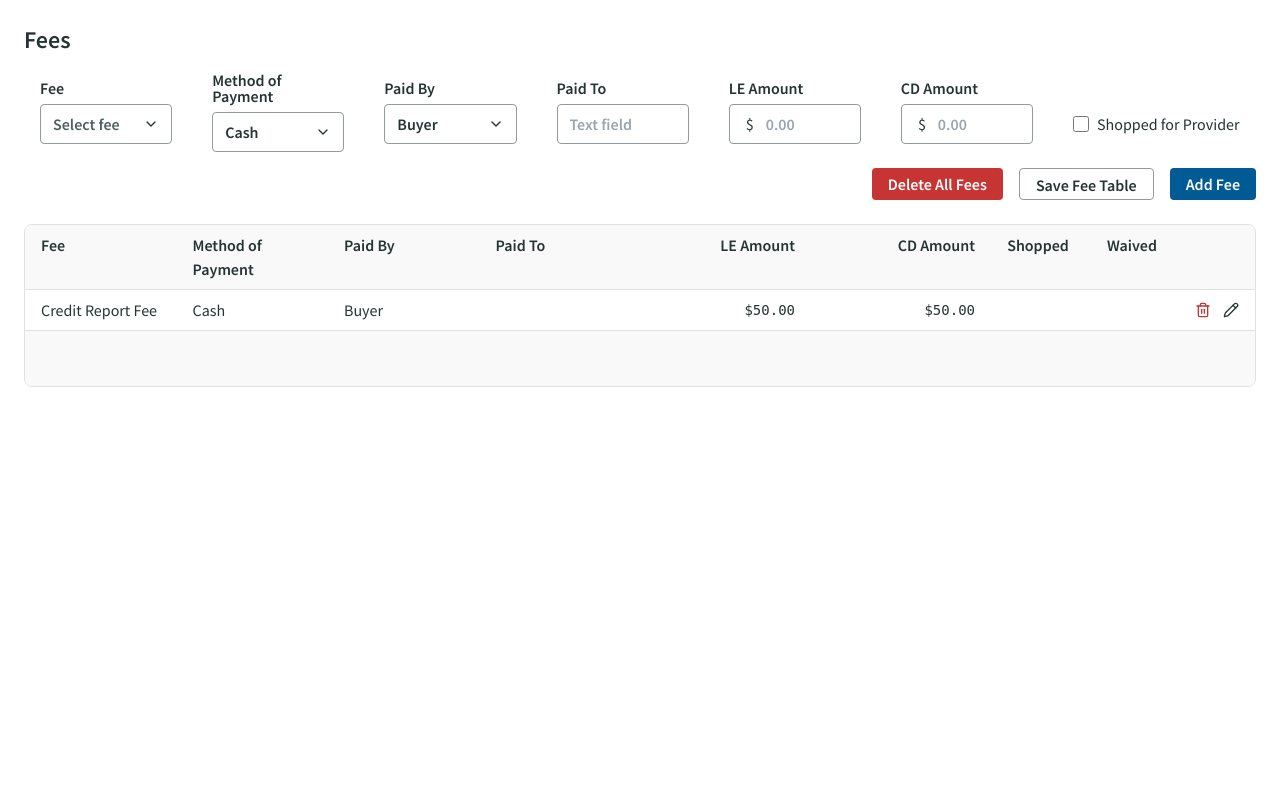
Test: FeesContent › saves waived status, shows its checkmark, and supports unwaiving
The image size is (1280, 800).
Expected: the column heading "Waived" is shown, x1=1107 y1=235 x2=1157 y2=255
Click the button with test id "button-edit-fee-waiver".
click(1231, 310)  # box x1=1223 y1=302 x2=1239 y2=318
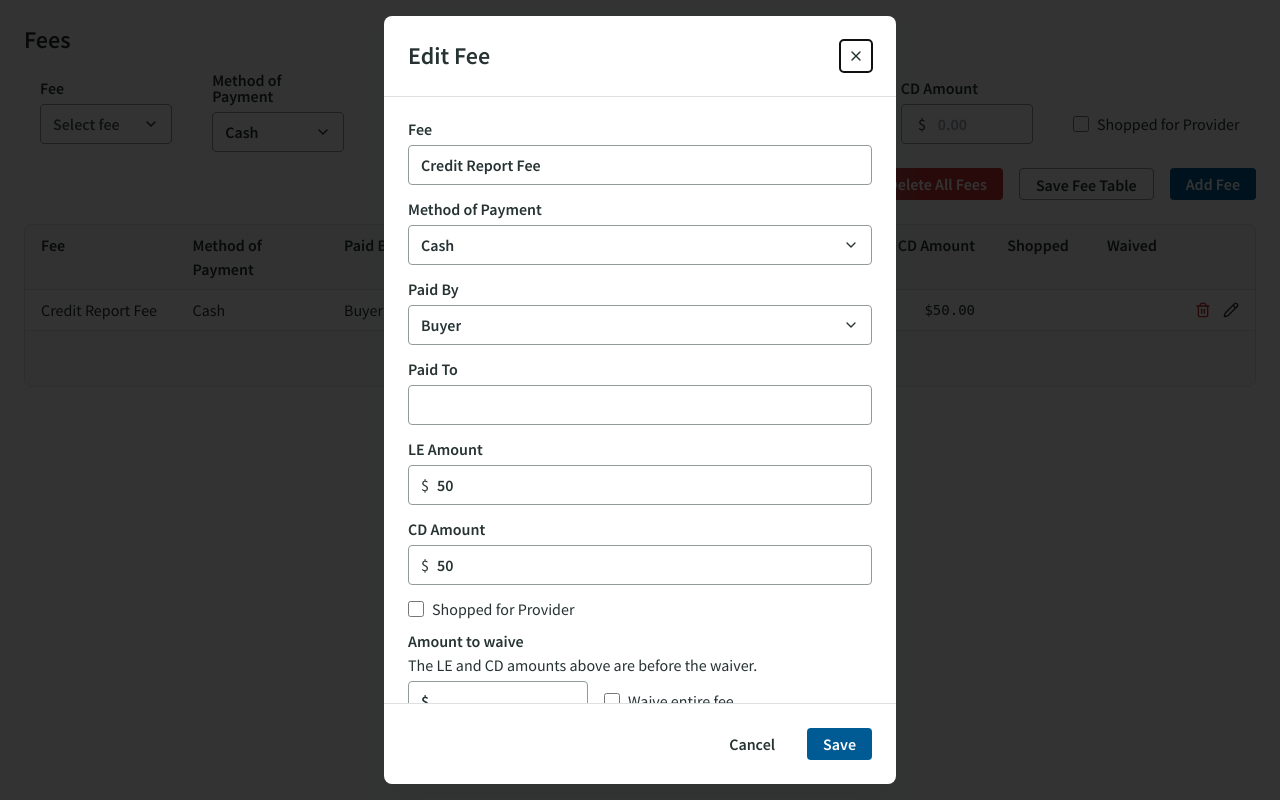
Click the checkbox labelled "Waive entire fee".
click(612, 701)  # box x1=604 y1=693 x2=620 y2=709
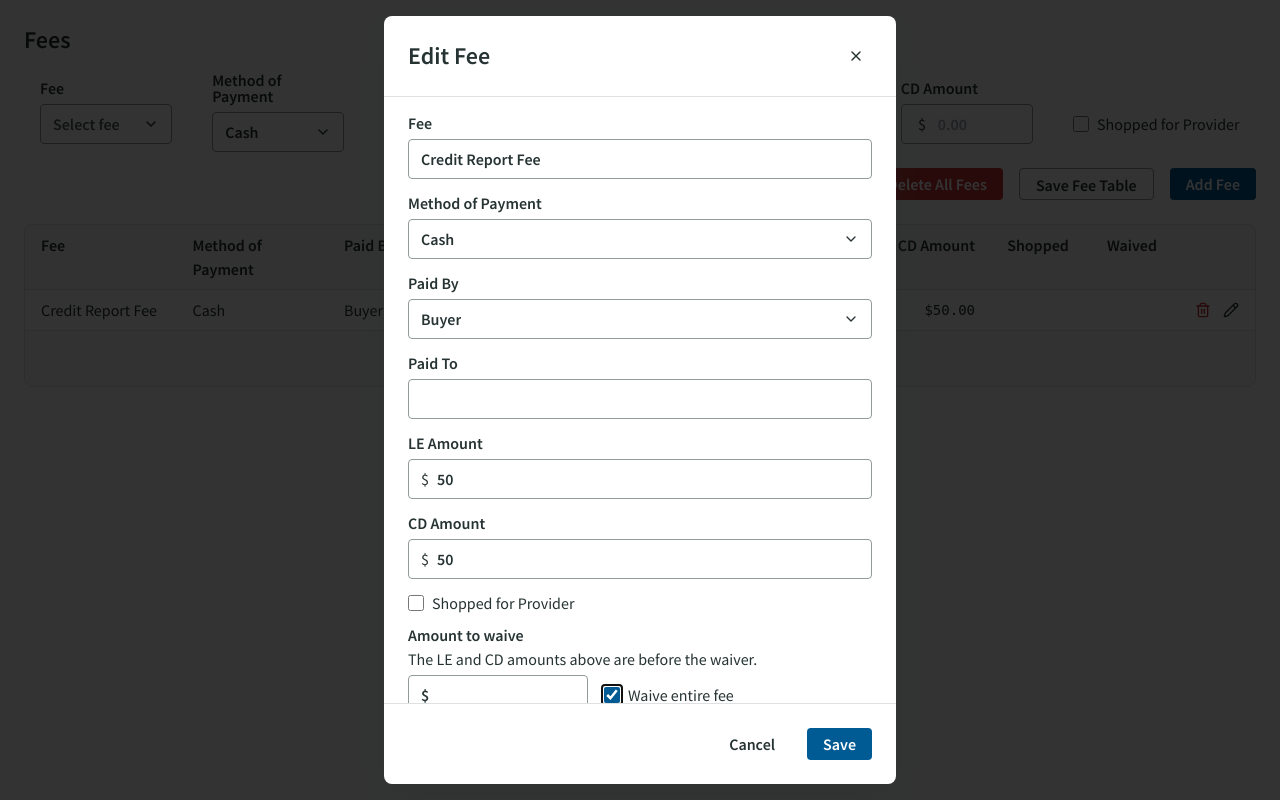
Click the button with test id "button-save-edit-fee".
click(840, 744)  # box x1=807 y1=728 x2=872 y2=760
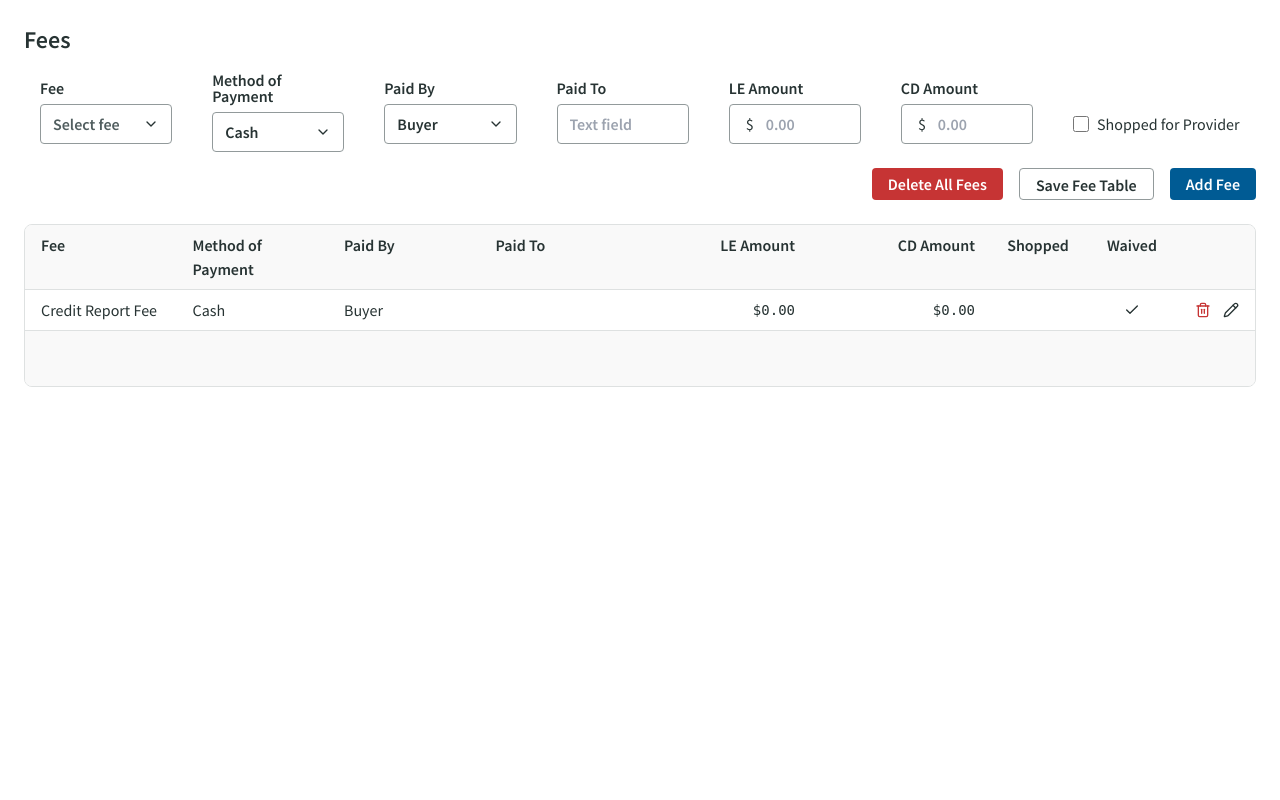
Result: the icon with test id "fee-waived-waiver" is shown at x1=1124 y1=302 x2=1140 y2=318
Click the button with test id "button-edit-fee-waiver".
click(1231, 310)  # box x1=1223 y1=302 x2=1239 y2=318
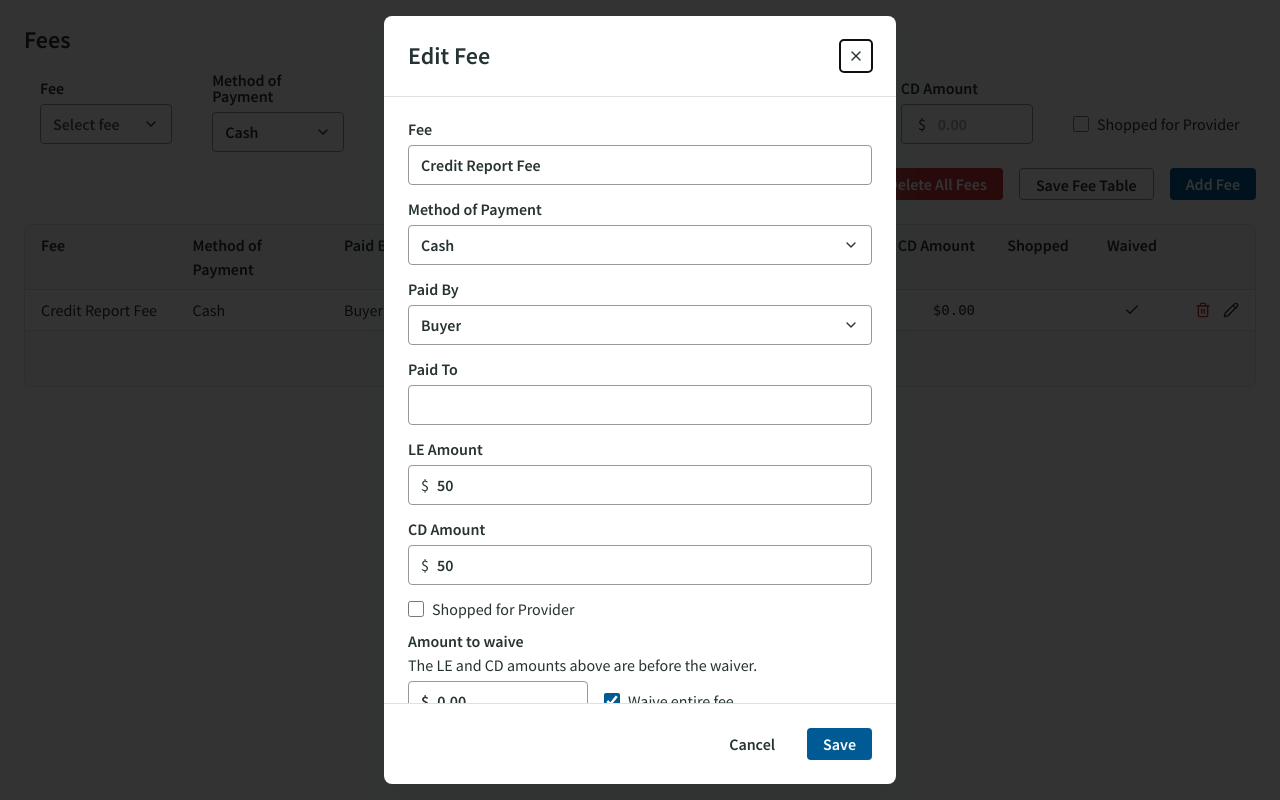
Result: the checkbox labelled "Waive entire fee" is checked
Click the checkbox labelled "Waive entire fee".
click(612, 701)  # box x1=604 y1=693 x2=620 y2=709
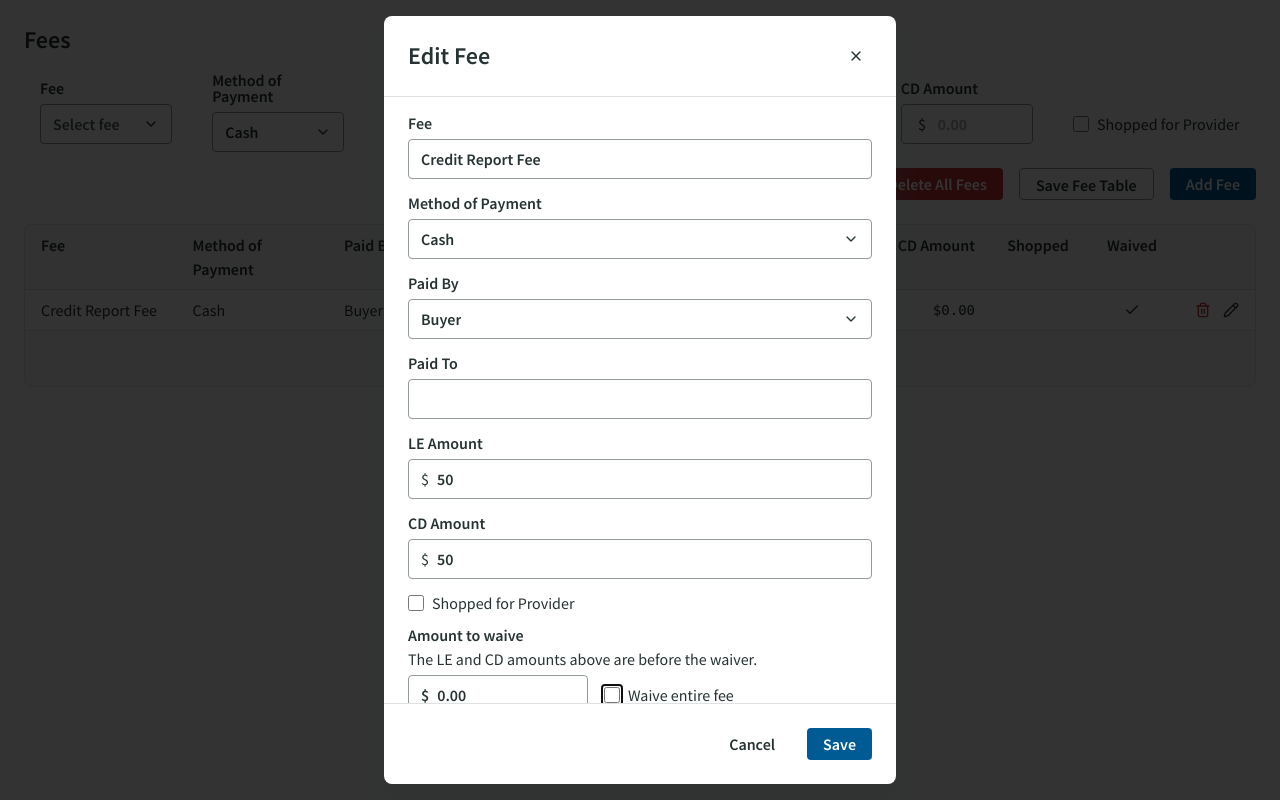
Click the button with test id "button-save-edit-fee".
click(840, 744)  # box x1=807 y1=728 x2=872 y2=760
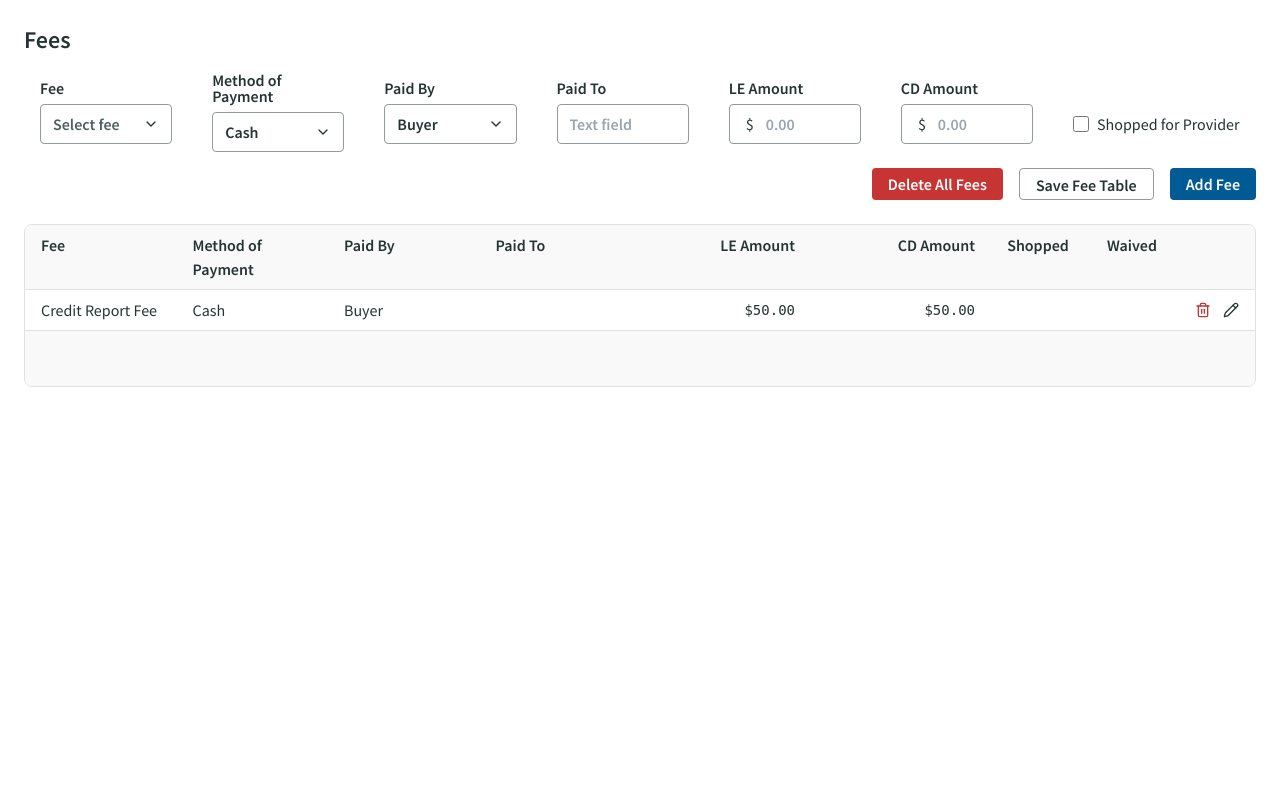
Result: the icon with test id "fee-waived-waiver" is gone
